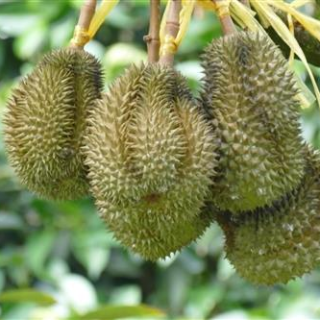sau_rieng: (81, 61, 222, 261)
